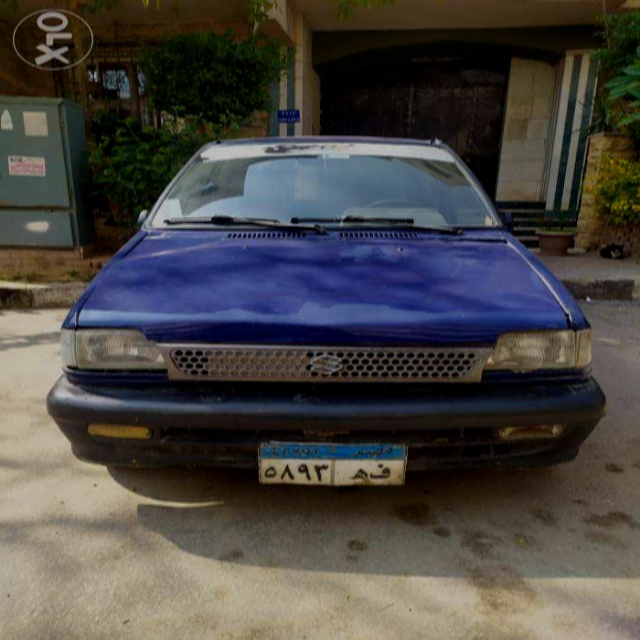License Plate: (254, 440, 410, 487)
